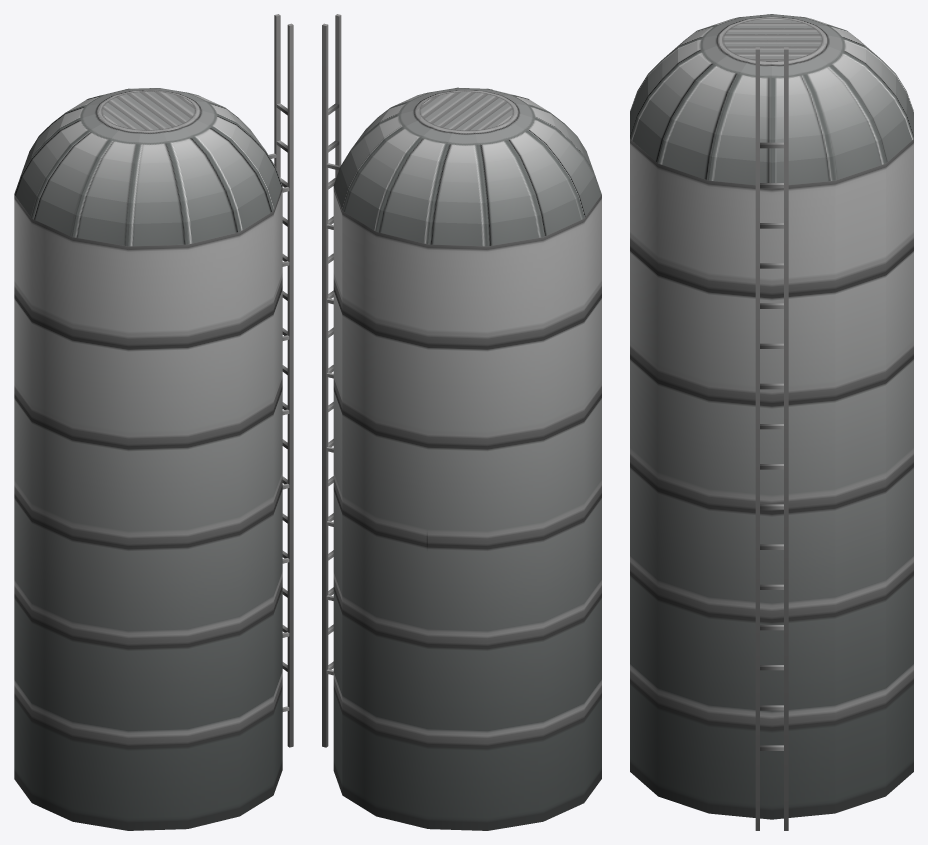
File: industrial_silos_01.fbx
The picture shows the model from 3 angles, left to right: view 1: azimuth 30°, elevation 25°; view 2: azimuth 150°, elevation 25°; view 3: azimuth 270°, elevation 25°; orthographic projection. The views are drawn at different scales.
Parts seen in each view (by area): view 1: ind:silos_01; view 2: ind:silos_01; view 3: ind:silos_01.
Part boxes in pixels (x1=…): ind:silos_01: x1=14, y1=14, x2=293, y2=830; ind:silos_01: x1=322, y1=14, x2=601, y2=830; ind:silos_01: x1=630, y1=14, x2=913, y2=830.
Bounding box in the file's own units: 3.59 × 9.72 × 3.2.
